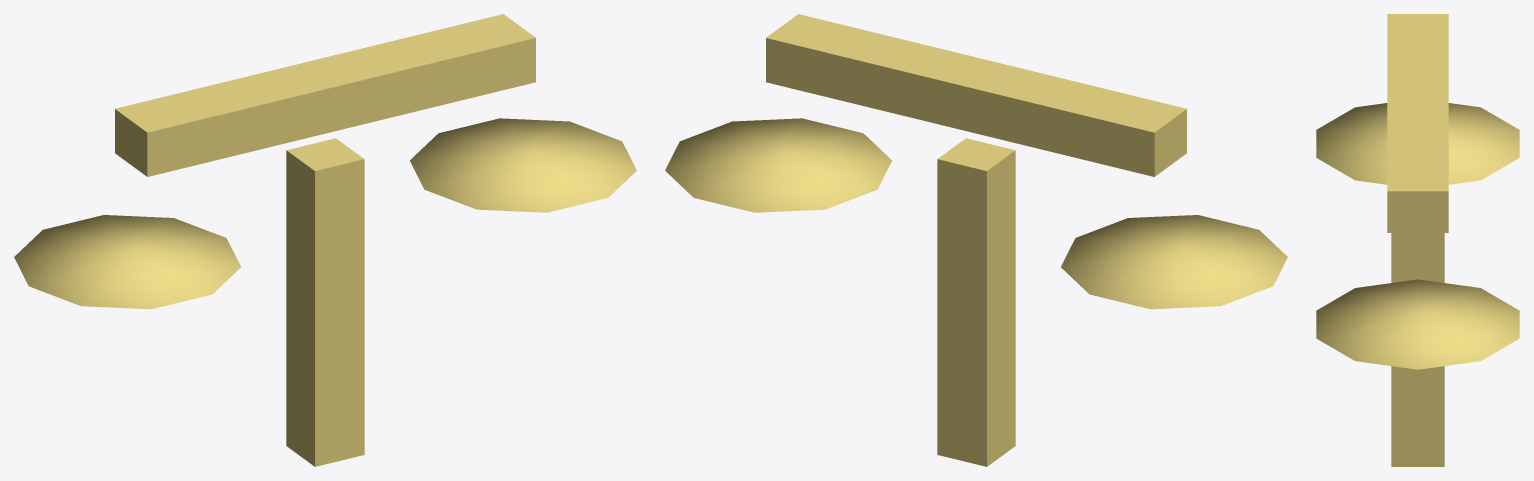
File: 01_scales.glb
3 renders of one model, left to right at view 1: azimuth 30°, elevation 25°; view 2: azimuth 150°, elevation 25°; view 3: azimuth 270°, elevation 25°, orthographic. The views are drawn at different scales.
Parts seen in each view (by area): view 1: law_01_scales; view 2: law_01_scales; view 3: law_01_scales.
Part boxes in pixels (left/top/right/bottom): law_01_scales: left=14, top=14, right=636, bottom=466; law_01_scales: left=665, top=14, right=1287, bottom=466; law_01_scales: left=1316, top=14, right=1519, bottom=466.
Bounding box in the file's own units: 0.84 × 0.51 × 0.2663.
